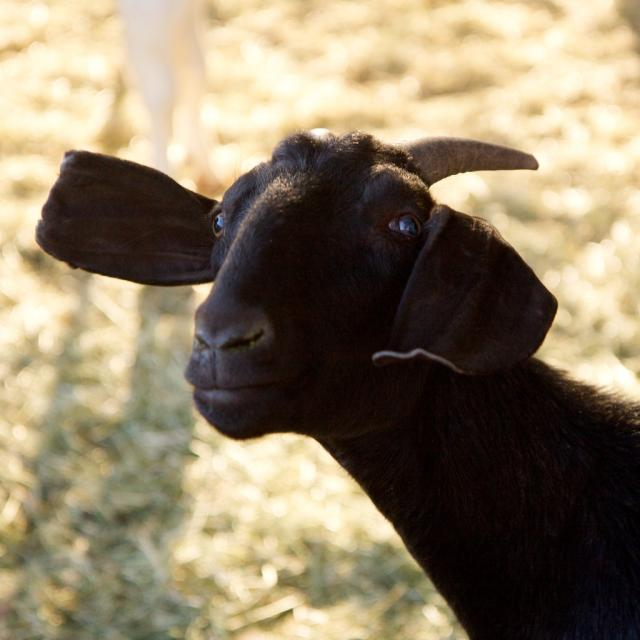Goat: (31, 121, 640, 638)
